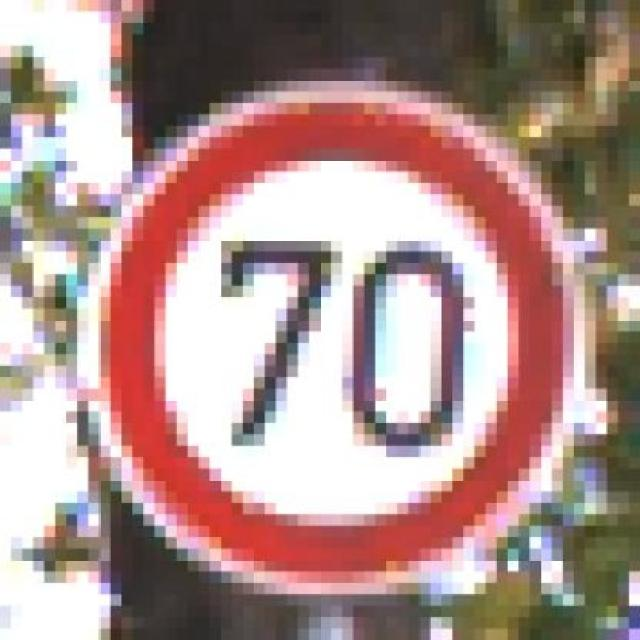forb_speed_over_70: (85, 87, 578, 590)
